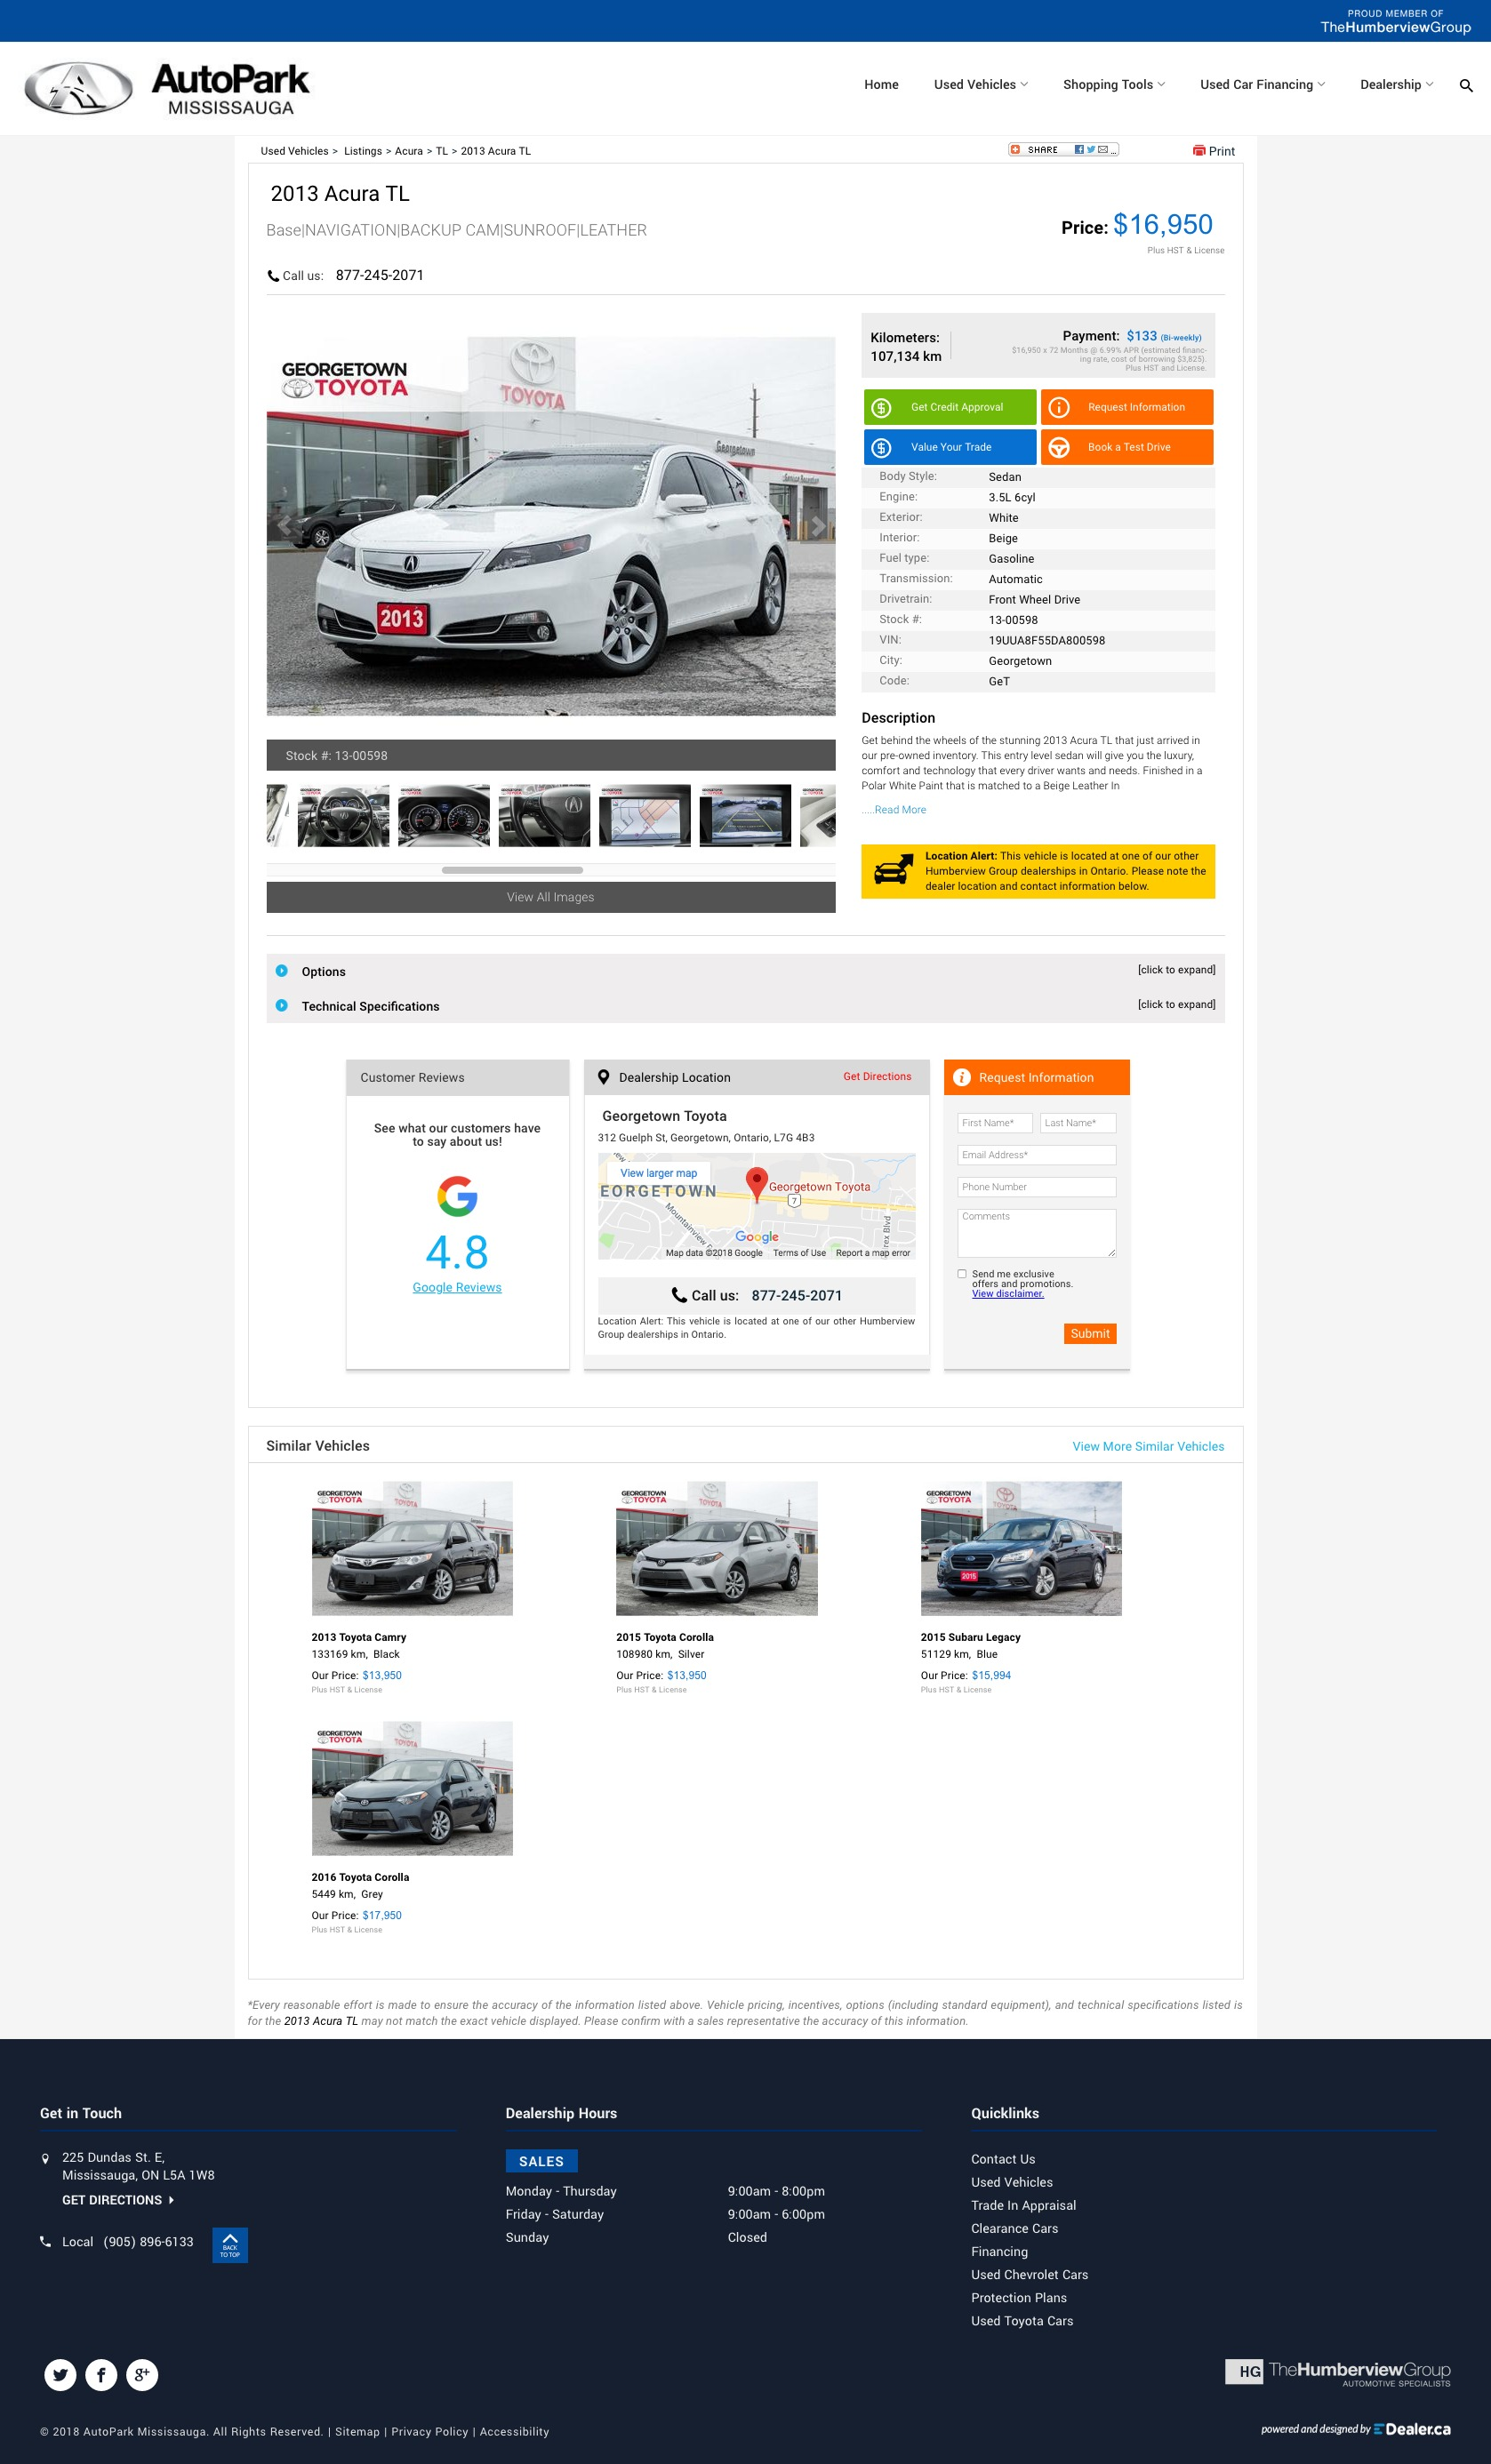car: (799, 507, 838, 546)
